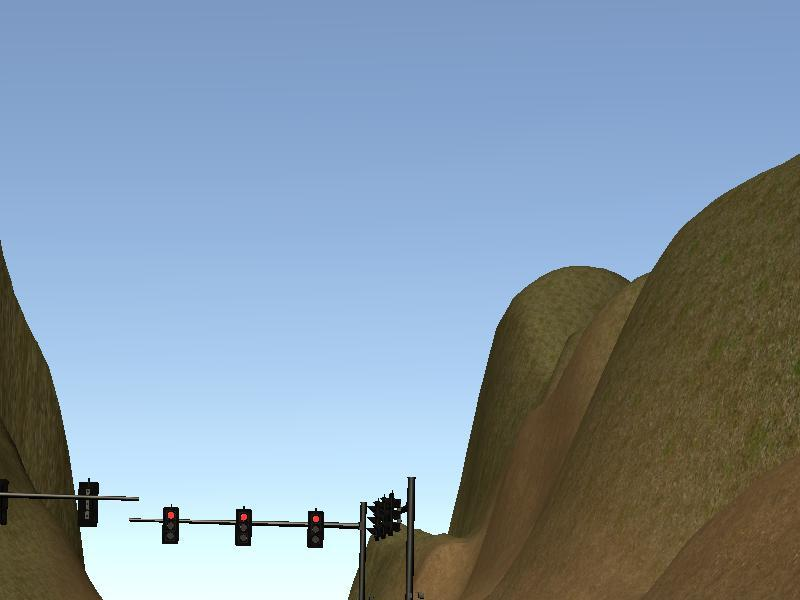Red: (162, 507, 179, 542), (308, 511, 324, 548), (236, 509, 251, 546)
